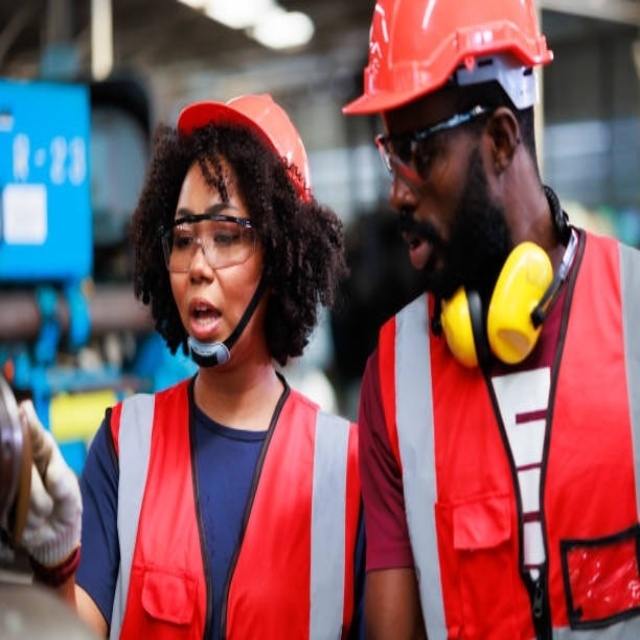Gafas: (373, 99, 495, 176), (158, 213, 255, 278)
Guantes: (11, 403, 84, 577)
Sin_mascara: (392, 205, 459, 293), (181, 281, 227, 344)
